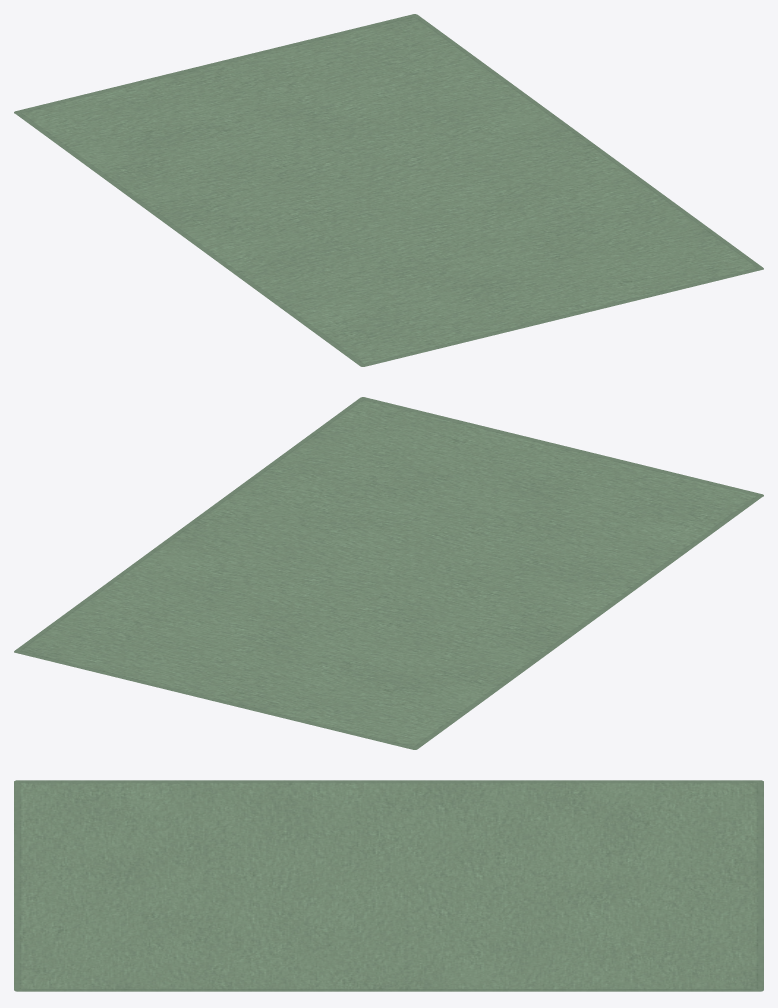
The model's file is green_XL.glb.
3 renders of one model, top to bottom at view 1: azimuth 30°, elevation 25°; view 2: azimuth 150°, elevation 25°; view 3: azimuth 270°, elevation 25°, orthographic. The views are drawn at different scales.
Parts seen in each view (by area): view 1: reliv_green_XL; view 2: reliv_green_XL; view 3: reliv_green_XL.
Boxes of the visible parts, left/top/right/bottom form: reliv_green_XL: left=14, top=14, right=763, bottom=366; reliv_green_XL: left=14, top=397, right=763, bottom=749; reliv_green_XL: left=14, top=780, right=763, bottom=991.
Size of the model in its own units: 2 by 0.009 by 3.
Materials: 2 (1 with a texture image).
